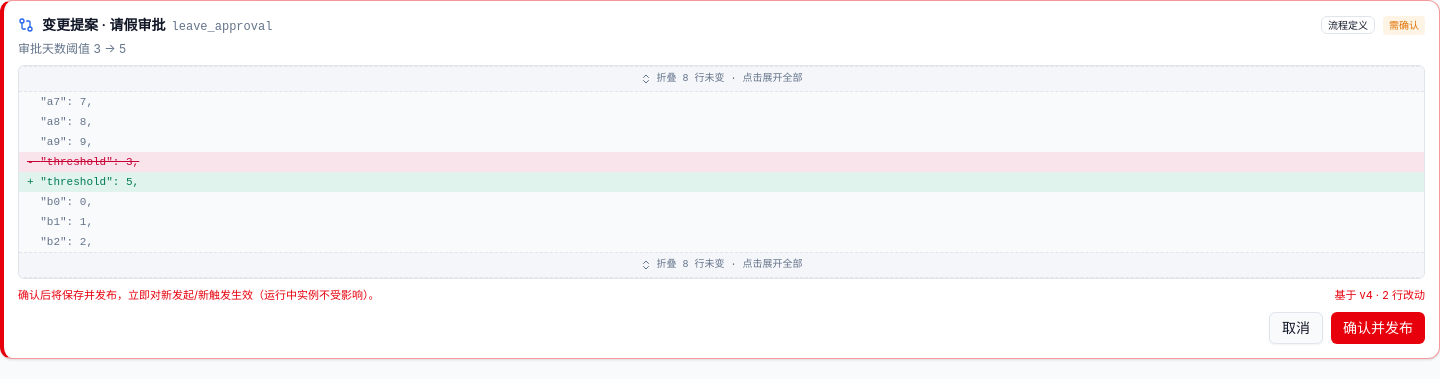
Test case: devDiff 卡 › 执行失败（资产被改，ok:false）→ 失败态 message + 重新发起提示
Click the button "确认并发布" at (1378, 328), box [1331,312,1425,344]
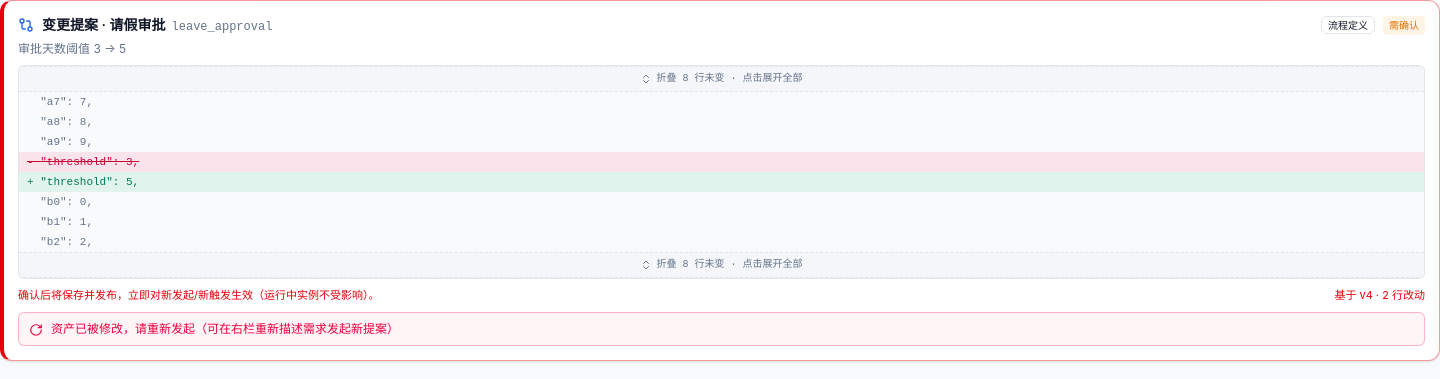
Now the text "资产已被修改，请重新发起（可在右栏重新描述需求发起新提案）" is shown, box [51,320,399,336]
Now the button "确认并发布" is gone
